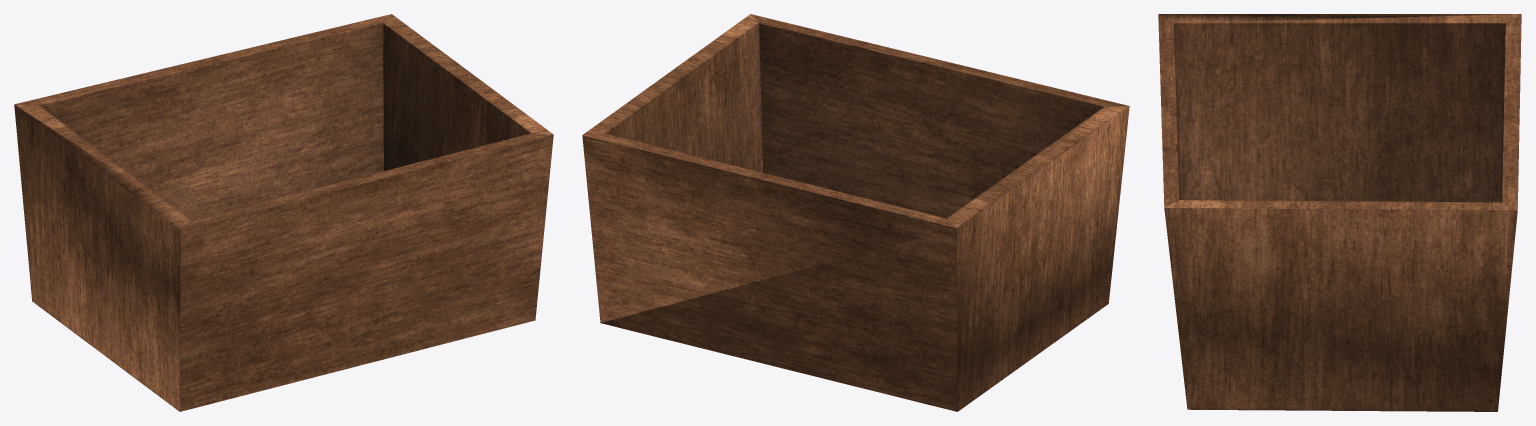
Rendered from frl_apartment_box.glb.
3 renders of one model, left to right at view 1: azimuth 30°, elevation 25°; view 2: azimuth 150°, elevation 25°; view 3: azimuth 270°, elevation 25°, orthographic. The views are drawn at different scales.
Parts seen in each view (by area): view 1: frl_apartment_box; view 2: frl_apartment_box; view 3: frl_apartment_box.
Boxes of the visible parts, box(x1,y1,x2,y2) form: frl_apartment_box: box(14, 14, 553, 411); frl_apartment_box: box(582, 14, 1129, 411); frl_apartment_box: box(1158, 14, 1521, 411).
Bounding box in the file's own units: 0.343 × 0.168 × 0.266.
1 material, 1 textured.
